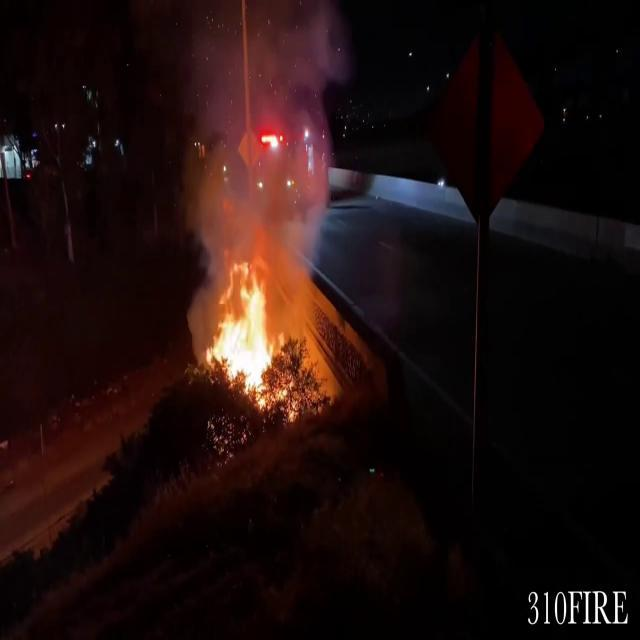Fire: (205, 264, 288, 406)
Smoke: (166, 0, 357, 288)
